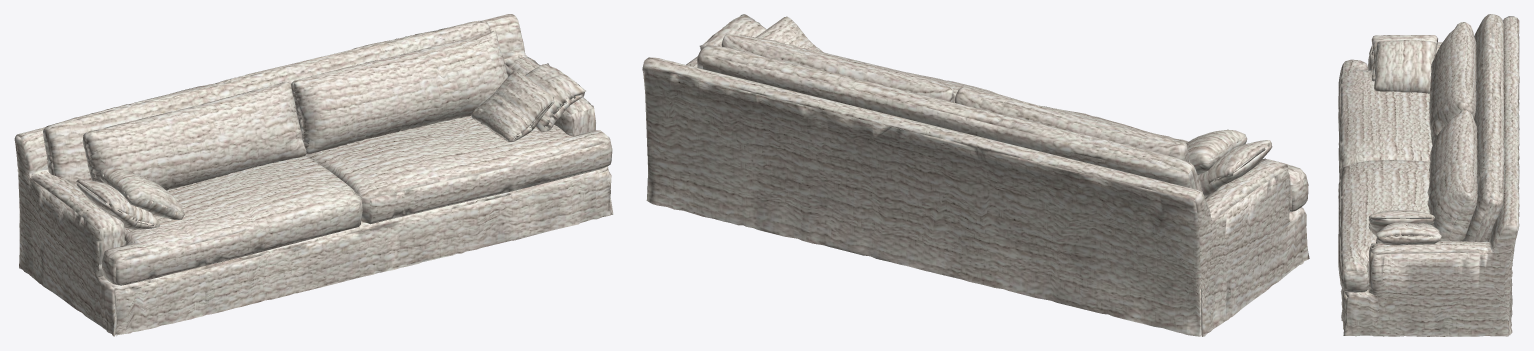
File: sofabranco.obj
3 renders of one model, left to right at view 1: azimuth 30°, elevation 25°; view 2: azimuth 150°, elevation 25°; view 3: azimuth 270°, elevation 25°, orthographic. The views are drawn at different scales.
Visible parts, largest first — view 1: Seat_pillow; view 2: Seat_pillow; view 3: Seat_pillow.
Part boxes in pixels (left/top/right/bottom): Seat_pillow: left=14, top=14, right=613, bottom=336; Seat_pillow: left=642, top=14, right=1309, bottom=336; Seat_pillow: left=1338, top=14, right=1519, bottom=336.
Size of the model in its own units: 178 by 50.44 by 64.82.
